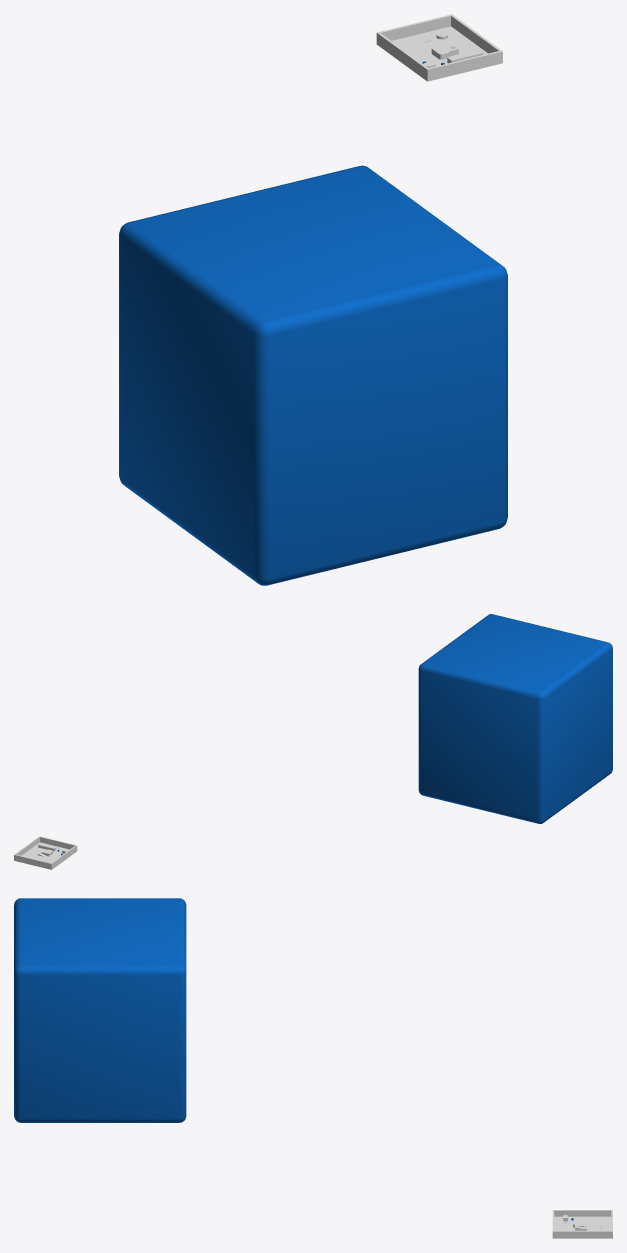
File: ThirdPersonMap_S.glb
3 renders of one model, top to bottom at view 1: azimuth 30°, elevation 25°; view 2: azimuth 150°, elevation 25°; view 3: azimuth 270°, elevation 25°, orthographic. The views are drawn at different scales.
Parts seen in each view (by area): view 1: SM_ChamferCube, SM_Cube, SM_Cube3, SM_Cube2; view 2: SM_ChamferCube, SM_Cube; view 3: SM_ChamferCube, SM_Cube.
Part boxes in pixels (x1=…): SM_ChamferCube: x1=119, y1=165, x2=507, y2=585; SM_Cube: x1=376, y1=26, x2=502, y2=81; SM_Cube3: x1=426, y1=50, x2=502, y2=80; SM_Cube2: x1=376, y1=14, x2=453, y2=43; SM_ChamferCube: x1=418, y1=614, x2=612, y2=823; SM_Cube: x1=14, y1=842, x2=76, y2=869; SM_ChamferCube: x1=14, y1=898, x2=186, y2=1122; SM_Cube: x1=552, y1=1216, x2=612, y2=1238.
Size of the model in its own units: 277 by 100 by 347.
